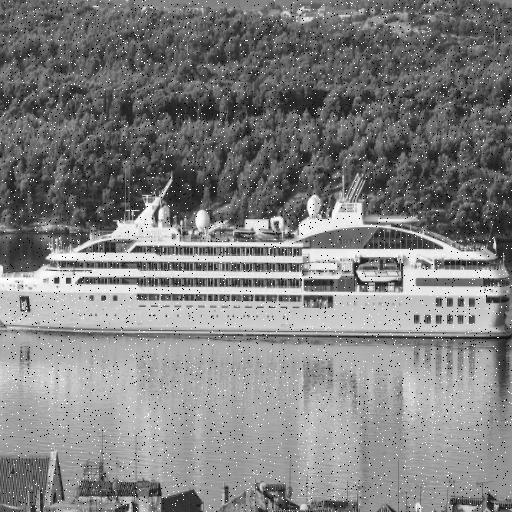cruises: (1, 168, 512, 348)
